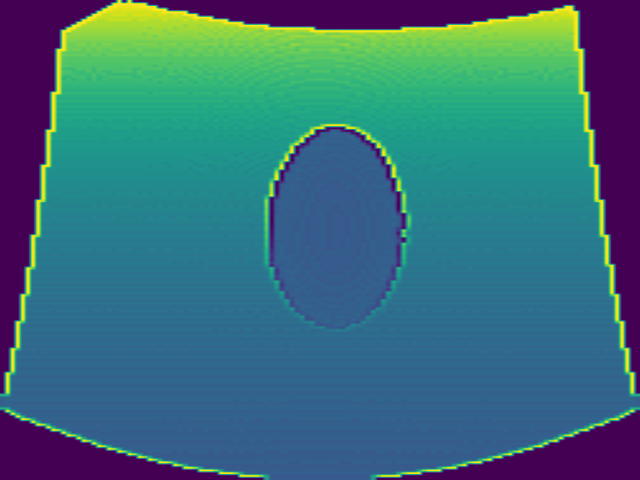sphere: (263, 123, 411, 331)
